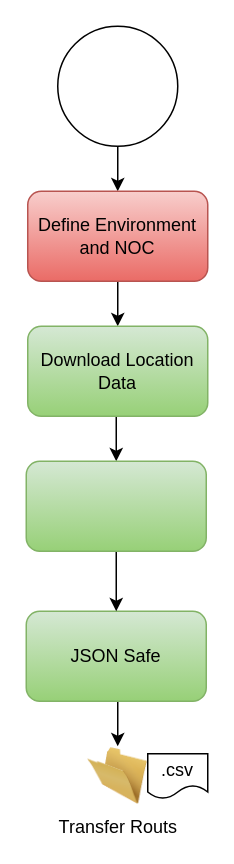
The diagram is 234 pixels wide and 864 high, and some of its shapes have lost their labels. The shapes that lost their labels are listed below. From the top down, each one's box as (x1, y1, x2, y2) in pixels, then its label:
(56, 25, 178, 146): Start
(25, 460, 206, 551): Create Transfer Routs Dataframe
